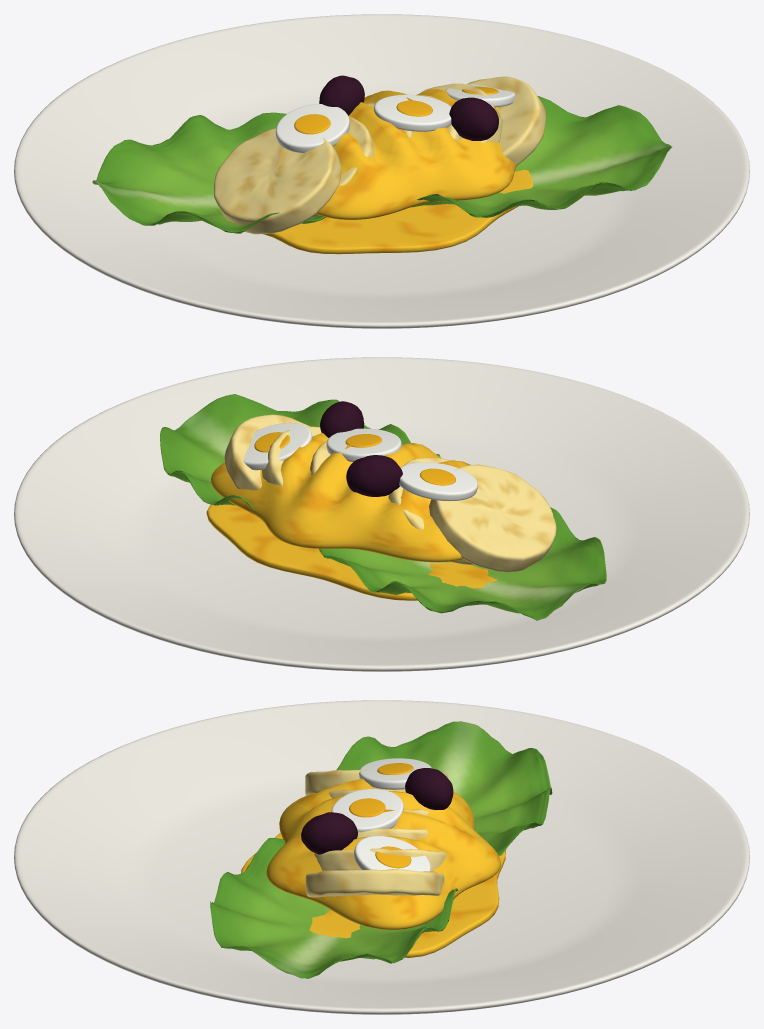
File: paso-5.glb
3 views of the same model, one above another, from view 1: azimuth 30°, elevation 25°; view 2: azimuth 150°, elevation 25°; view 3: azimuth 270°, elevation 25° (orthographic).
Visible parts, largest first — view 1: paso-5-0, paso-5-10, paso-5-2, paso-5-1, paso-5-3, paso-5-9, paso-5-8, paso-5-11, paso-5-13, paso-5-18, paso-5-17, paso-5-4 (+3 smaller); view 2: paso-5-0, paso-5-10, paso-5-1, paso-5-3, paso-5-2, paso-5-9, paso-5-8, paso-5-11, paso-5-17, paso-5-15, paso-5-13, paso-5-18 (+2 smaller); view 3: paso-5-0, paso-5-10, paso-5-2, paso-5-1, paso-5-9, paso-5-8, paso-5-18, paso-5-13, paso-5-17, paso-5-15, paso-5-7, paso-5-11 (+3 smaller).
Part boxes in pixels (x1,y1,x2,y2): paso-5-0: (14,14,749,328); paso-5-10: (316,89,516,219); paso-5-2: (411,96,672,217); paso-5-1: (92,112,325,233); paso-5-3: (214,128,341,234); paso-5-9: (262,169,532,254); paso-5-8: (467,76,546,165); paso-5-11: (275,104,349,152); paso-5-13: (374,94,451,131); paso-5-18: (449,97,498,140); paso-5-17: (319,75,364,115); paso-5-4: (312,116,373,216); paso-5-0: (14,357,749,671); paso-5-10: (211,433,470,562); paso-5-1: (319,507,606,620); paso-5-3: (429,464,556,572); paso-5-2: (160,394,440,510); paso-5-9: (206,504,497,600); paso-5-8: (224,414,310,490); paso-5-11: (399,462,477,501); paso-5-17: (346,455,402,496); paso-5-15: (243,422,312,470); paso-5-13: (326,428,401,462); paso-5-18: (320,401,364,437); paso-5-0: (14,700,749,1014); paso-5-10: (266,778,500,929); paso-5-2: (210,837,458,978); paso-5-1: (336,721,552,855); paso-5-9: (241,833,505,957); paso-5-8: (305,869,444,897); paso-5-18: (301,812,357,854); paso-5-13: (331,788,403,832); paso-5-17: (405,768,453,809); paso-5-15: (354,835,430,871); paso-5-7: (314,848,446,871); paso-5-11: (359,758,431,789).
Size of the model in its own units: 0.31 by 0.0542 by 0.31.
